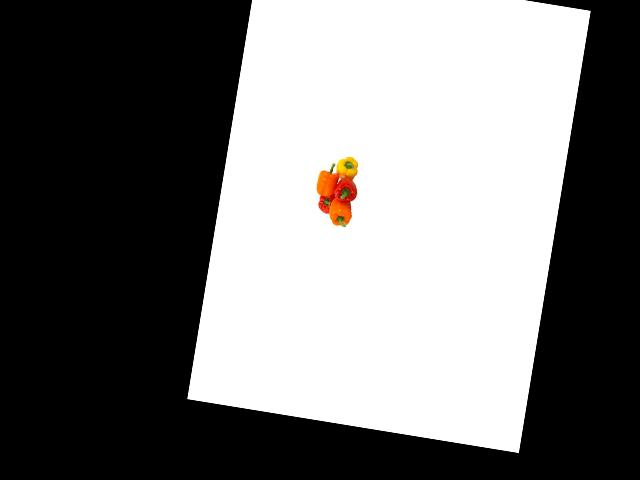bell_pepper: (323, 195, 356, 234)
